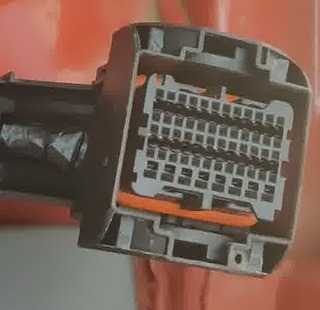connector: (78, 22, 313, 277)
